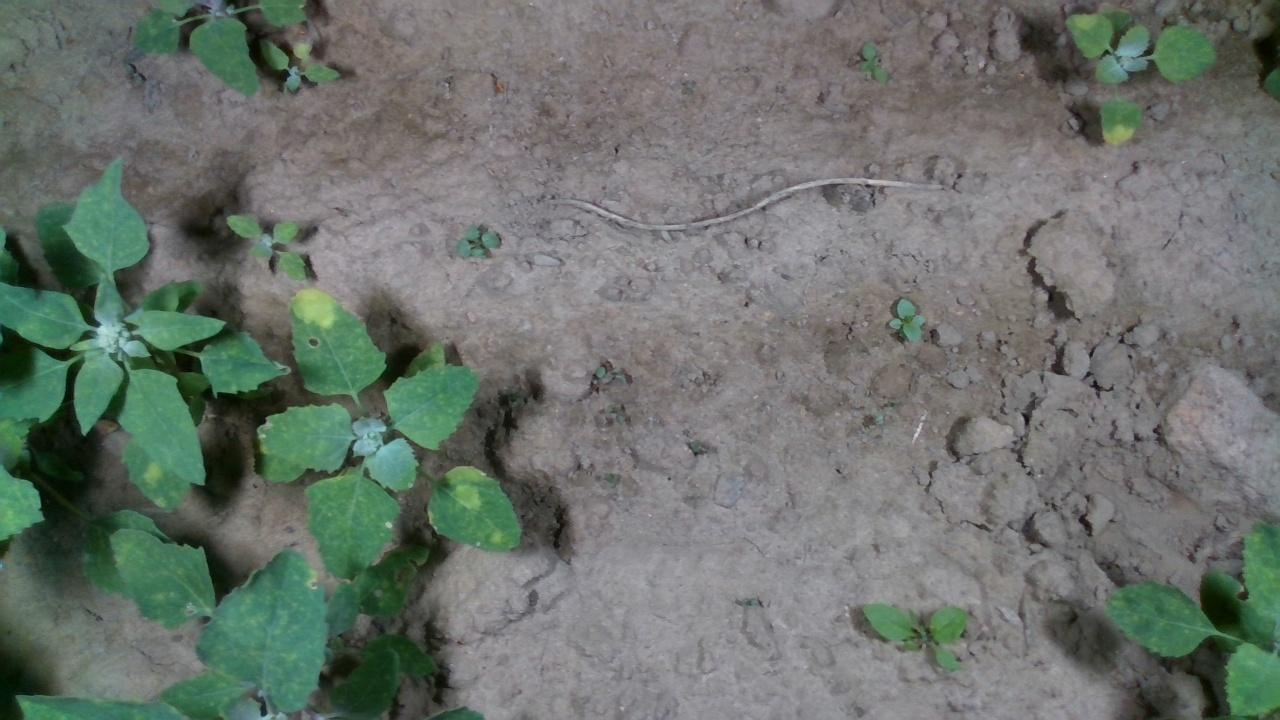weed: (856, 598, 963, 675), (883, 294, 922, 345), (456, 221, 497, 263), (855, 40, 887, 86), (735, 592, 766, 609)
